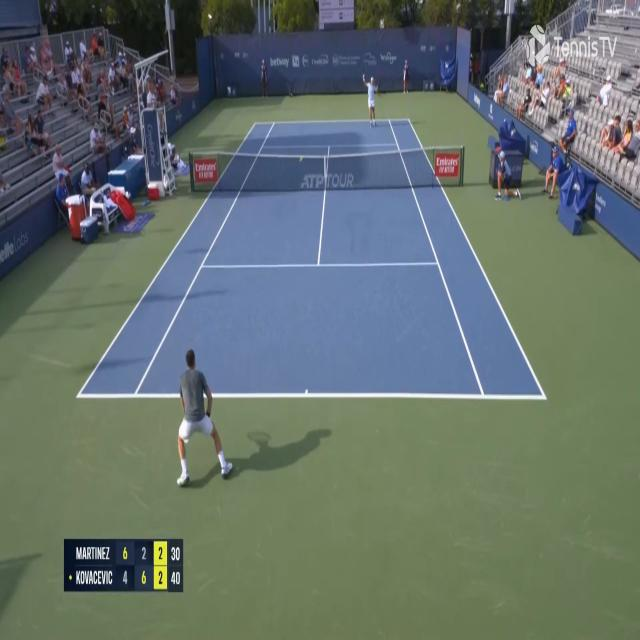tennis-player: (173, 346, 236, 492), (362, 74, 378, 129)
